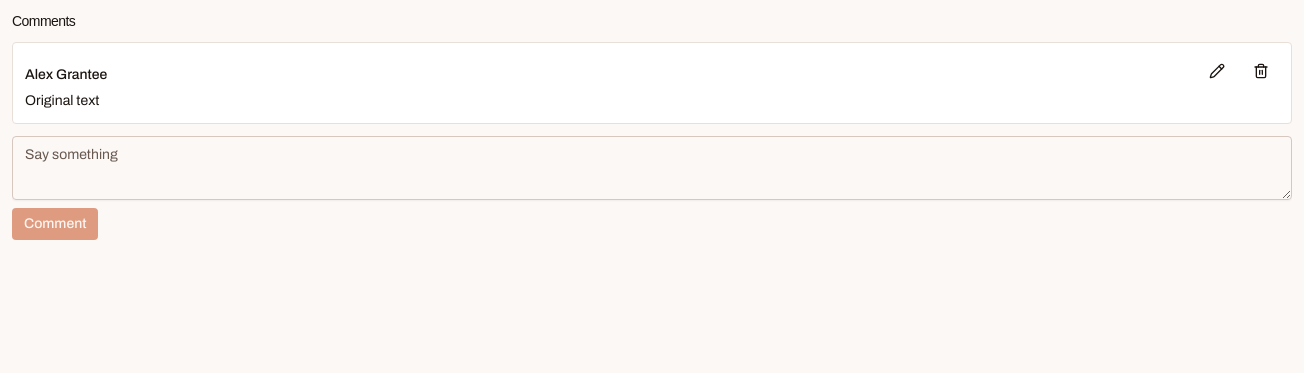
it: CommentThread › editing a comment › renders an error when saving the edit fails
Expected: the text "Original text" is shown, [25,93,100,108]
Click the 1st button named "edit your comment": [1217, 71] box [1199,55,1235,87]
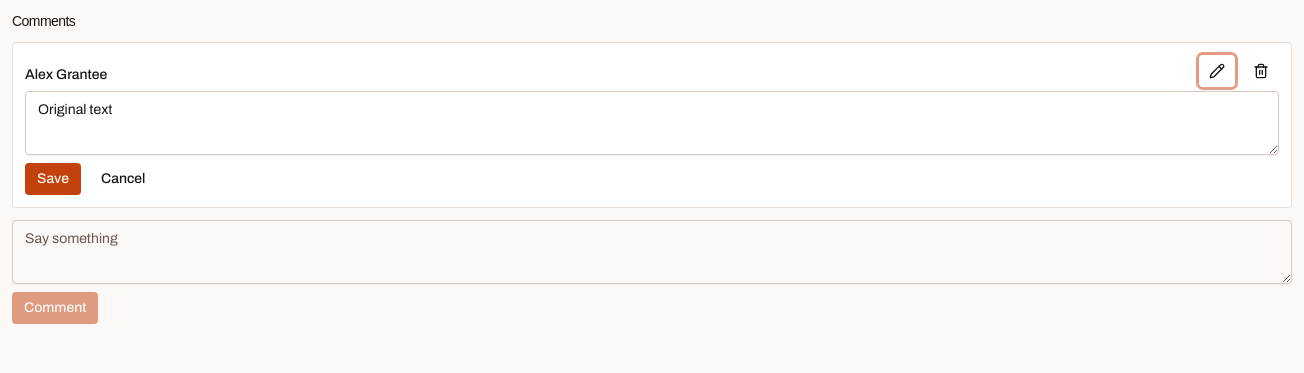
Click the button "Save": [53, 179] box [25,163,81,195]
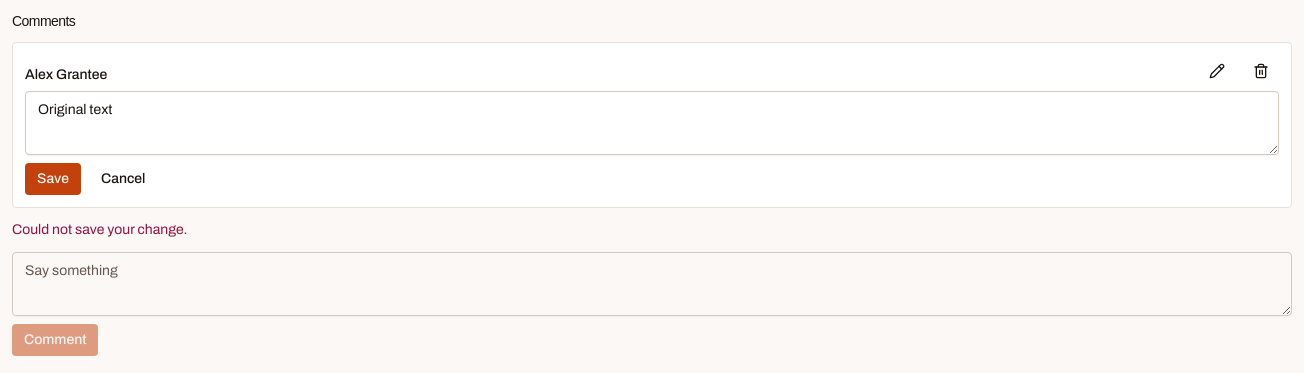
Now the text box named "Edit your comment" is shown, box [25,91,1279,155]
Now the message reads "Could not save your change.", box [12,222,188,237]
